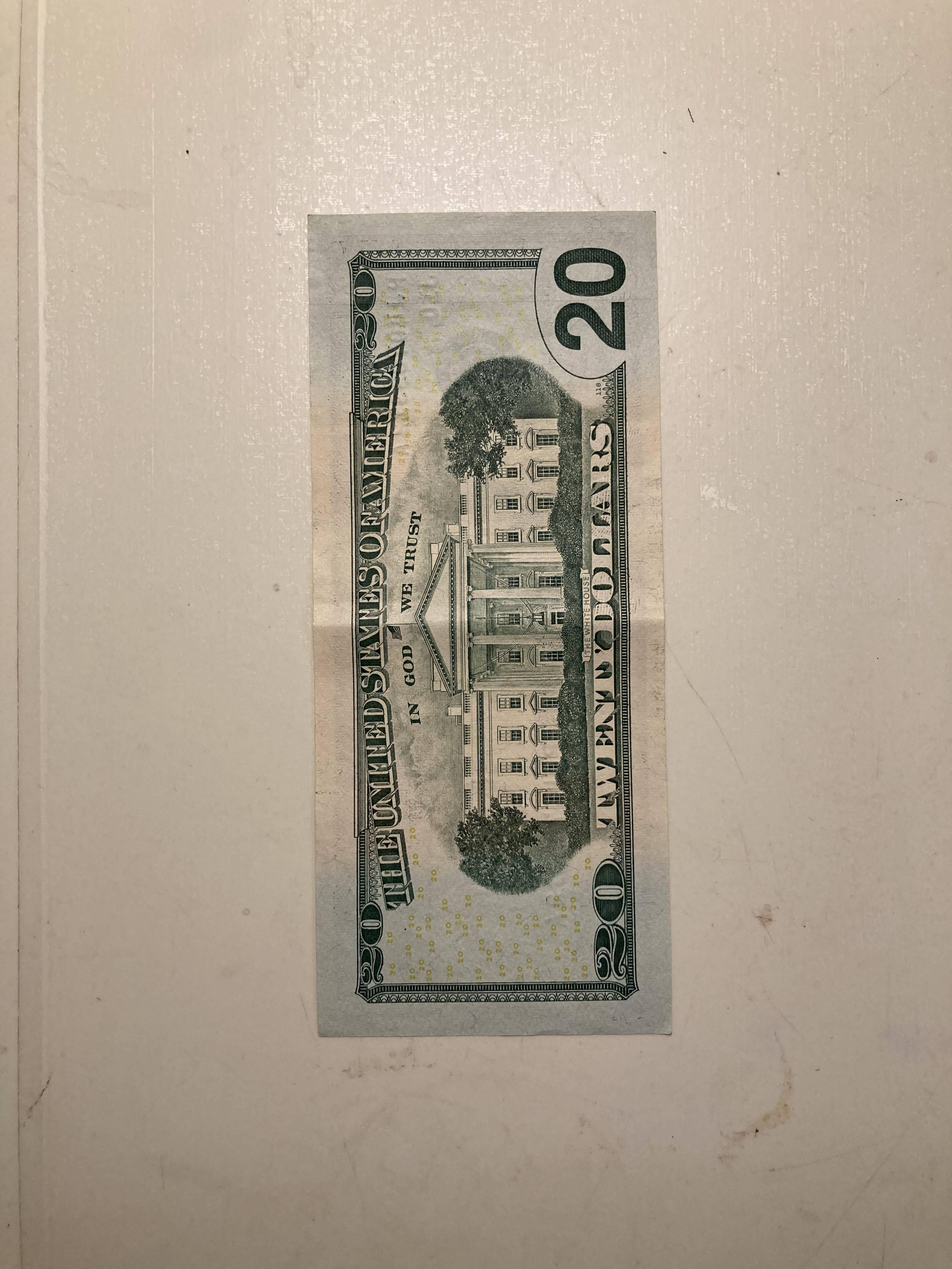twenty-back: (301, 204, 677, 1041)
